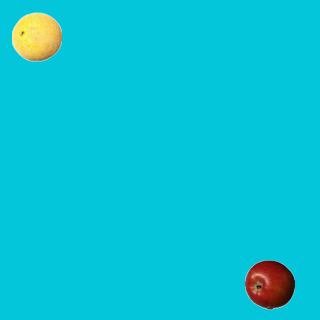Apple Braeburn: (244, 259, 294, 309)
Cantaloupe 1: (11, 11, 61, 61)
